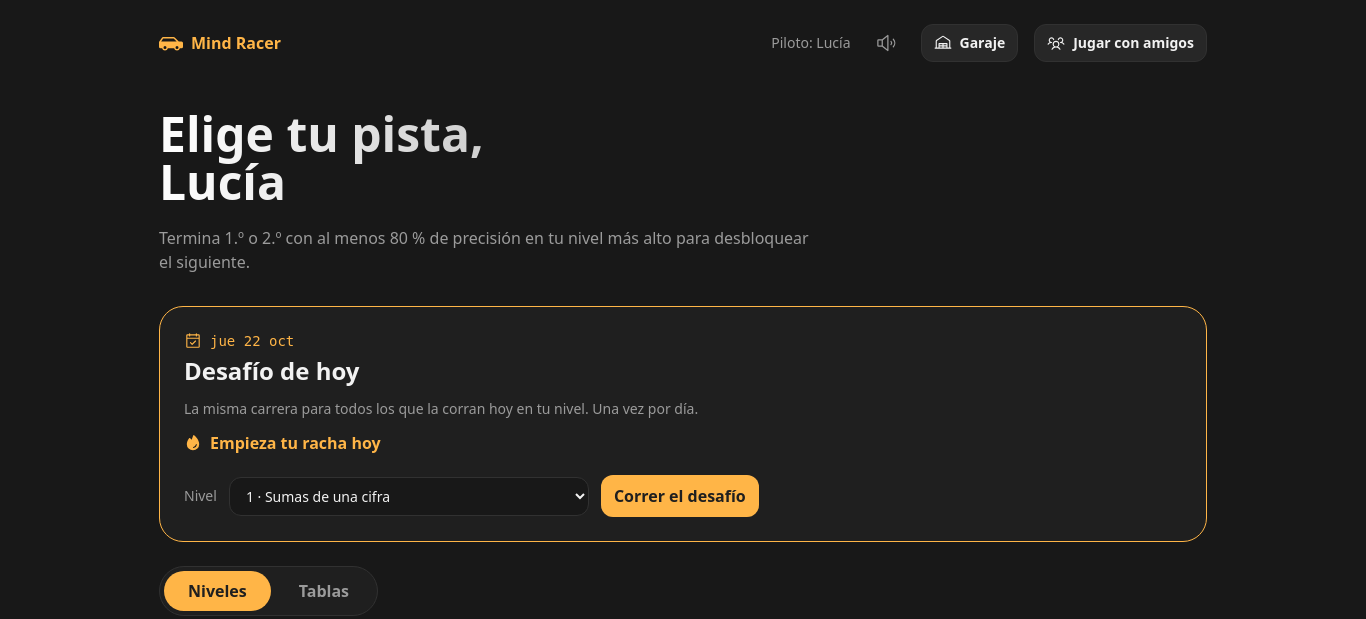
Test: garaje › se abre desde el menú y un jugador nuevo solo tiene el clásico ámbar (Primer día)
Click the button "Garaje". click: (969, 43)
box: [920,24,1018,62]
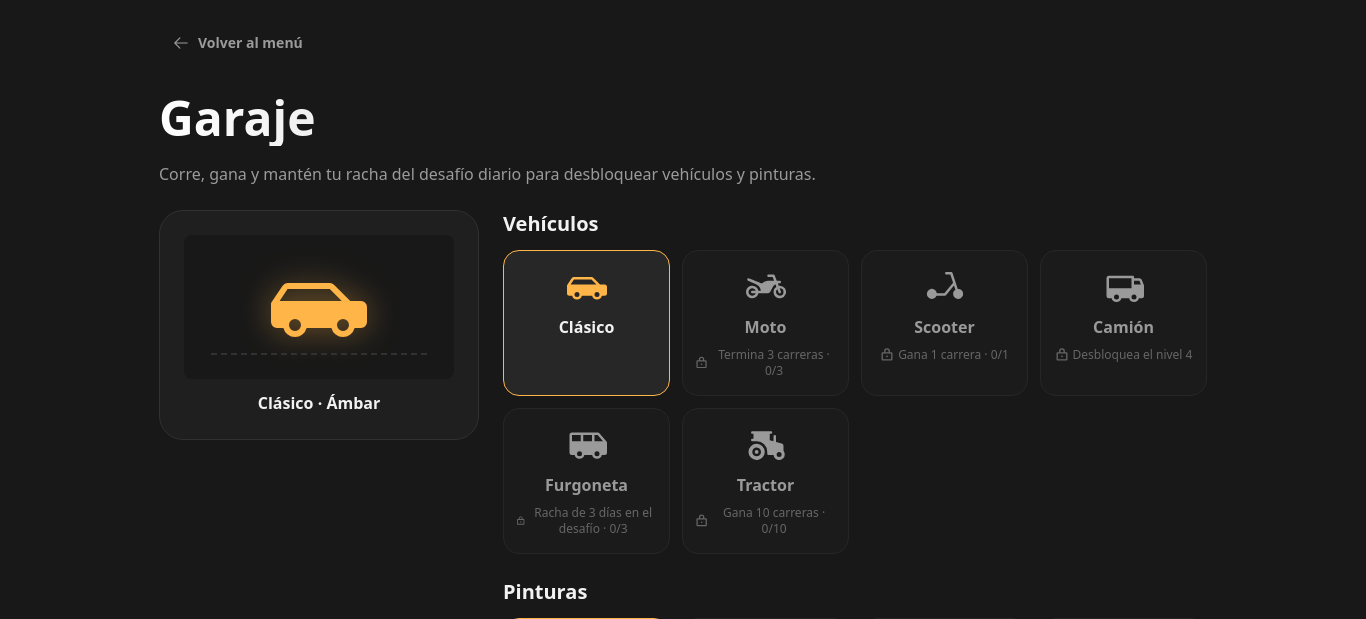
Check: the heading "Garaje" is shown, box [159,94,1207,146]
Check: the element named "Tu auto" reads "Clásico · Ámbar", box [159,210,479,440]
